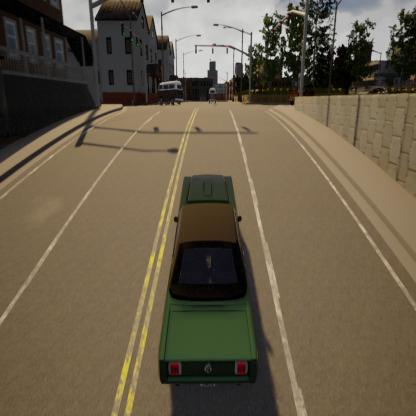Cars: (152, 166, 266, 394), (153, 77, 186, 111), (287, 82, 317, 109), (206, 83, 218, 107)
